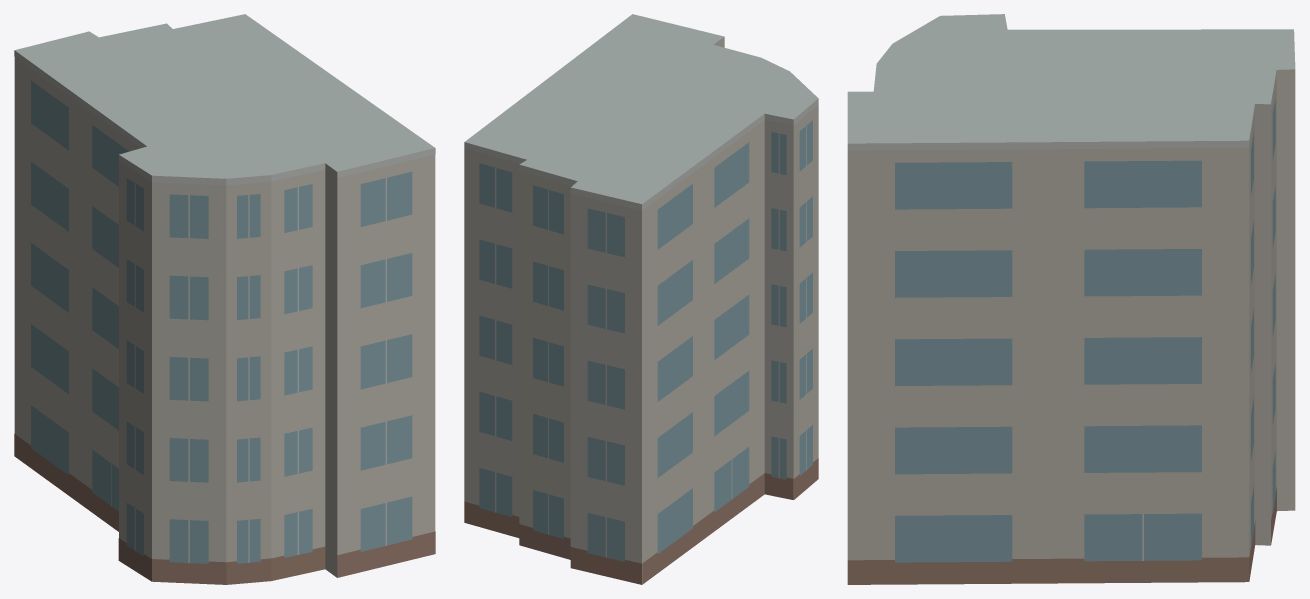
Rendered from survey-upis-32564453.glb.
3 renders of one model, left to right at view 1: azimuth 30°, elevation 25°; view 2: azimuth 150°, elevation 25°; view 3: azimuth 270°, elevation 25°, orthographic. The views are drawn at different scales.
Parts seen in each view (by area): view 1: survey-upis-32564453.tmp; view 2: survey-upis-32564453.tmp; view 3: survey-upis-32564453.tmp.
Part boxes in pixels (box(x1,y1,x2,y2)): survey-upis-32564453.tmp: box(14, 14, 435, 584); survey-upis-32564453.tmp: box(464, 14, 818, 584); survey-upis-32564453.tmp: box(847, 14, 1295, 584).
Bounding box in the file's own units: 9.58 × 15.2 × 13.99.
